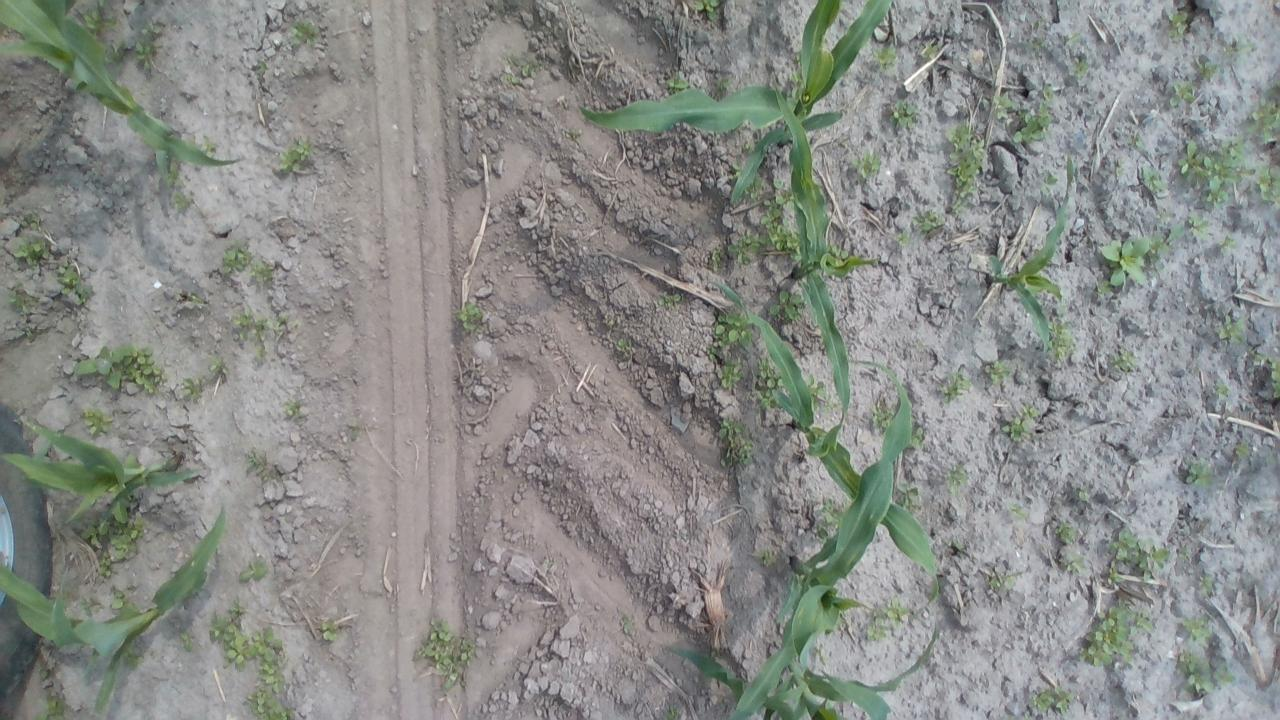Maize: (716, 282, 940, 619), (726, 358, 912, 720), (578, 0, 896, 209), (0, 507, 229, 715), (0, 1, 245, 172), (773, 83, 883, 448), (661, 617, 943, 720), (0, 420, 201, 526), (984, 147, 1080, 356)
Weeds: (1177, 134, 1252, 209), (1076, 598, 1152, 670), (74, 344, 168, 398), (416, 616, 477, 688), (252, 624, 297, 720), (946, 120, 990, 209), (1104, 530, 1172, 586), (758, 177, 801, 260), (82, 504, 145, 560), (232, 309, 300, 360), (1093, 237, 1152, 294), (1174, 650, 1234, 699), (210, 603, 252, 672), (1014, 84, 1058, 146), (716, 417, 755, 470), (1248, 84, 1280, 146), (868, 598, 908, 640), (713, 308, 752, 348), (754, 360, 784, 412), (56, 263, 92, 306), (1028, 684, 1076, 714), (1252, 352, 1280, 402), (278, 138, 314, 176), (1003, 406, 1039, 444), (6, 279, 41, 317), (245, 454, 285, 487), (1154, 209, 1184, 252), (1044, 320, 1074, 360), (82, 2, 118, 35), (12, 237, 50, 268), (221, 238, 252, 276), (132, 26, 160, 68), (1253, 163, 1280, 206), (768, 288, 804, 320), (728, 233, 762, 266), (889, 99, 923, 132), (506, 53, 542, 84), (79, 408, 115, 438), (940, 368, 971, 402), (456, 300, 487, 332), (1181, 615, 1214, 644), (909, 208, 945, 234), (1182, 457, 1212, 488), (290, 18, 322, 47), (854, 150, 884, 180), (987, 90, 1016, 121), (1139, 166, 1168, 196), (1215, 313, 1246, 341), (716, 360, 744, 391), (806, 375, 830, 410), (108, 588, 138, 616), (1058, 548, 1088, 576), (238, 556, 268, 584), (1168, 78, 1194, 110), (982, 360, 1014, 386), (1222, 37, 1258, 60), (179, 372, 207, 401), (37, 692, 66, 720), (986, 569, 1024, 590), (1110, 348, 1138, 376), (1166, 9, 1192, 39), (1052, 520, 1082, 546), (817, 498, 842, 528), (1066, 57, 1094, 83), (870, 46, 898, 72), (250, 260, 278, 286), (871, 400, 894, 431), (946, 463, 968, 494), (1186, 213, 1210, 241), (897, 482, 920, 511), (614, 336, 638, 362), (1197, 572, 1221, 598), (664, 71, 692, 93), (162, 161, 184, 188), (1196, 59, 1224, 80), (751, 548, 780, 568), (106, 38, 128, 64), (694, 0, 721, 21), (282, 397, 304, 422), (708, 247, 728, 274), (1007, 502, 1031, 524), (1042, 168, 1060, 197), (658, 290, 684, 310), (826, 244, 848, 266), (346, 420, 366, 444), (179, 628, 199, 652), (20, 210, 42, 231), (124, 648, 145, 670), (171, 190, 194, 210), (199, 135, 219, 158), (909, 425, 926, 451), (210, 356, 230, 378), (320, 620, 342, 640), (77, 595, 101, 613), (176, 291, 208, 304), (1210, 381, 1230, 401), (1218, 236, 1238, 256), (94, 562, 118, 578), (746, 176, 762, 198), (1030, 36, 1047, 56), (252, 58, 270, 76), (726, 162, 742, 182), (620, 616, 636, 636), (921, 42, 938, 60), (714, 75, 733, 91), (1234, 441, 1250, 459), (813, 646, 829, 664), (1076, 482, 1090, 502), (815, 525, 830, 542), (1174, 546, 1192, 560), (1065, 32, 1079, 49), (1132, 130, 1144, 149), (664, 707, 680, 720), (1116, 158, 1126, 178), (950, 538, 964, 552), (1031, 17, 1046, 30), (898, 231, 909, 248), (745, 142, 757, 156), (37, 668, 51, 680), (708, 346, 717, 364), (604, 316, 616, 329), (26, 330, 38, 342), (570, 128, 582, 139), (1023, 712, 1037, 720)
